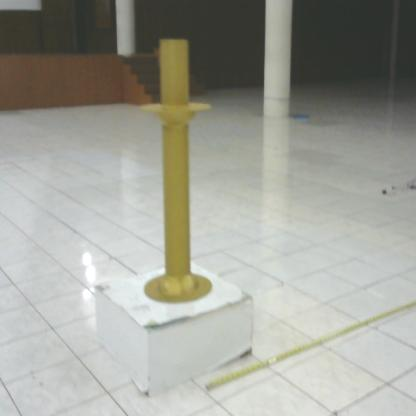pole: (135, 33, 221, 315)
